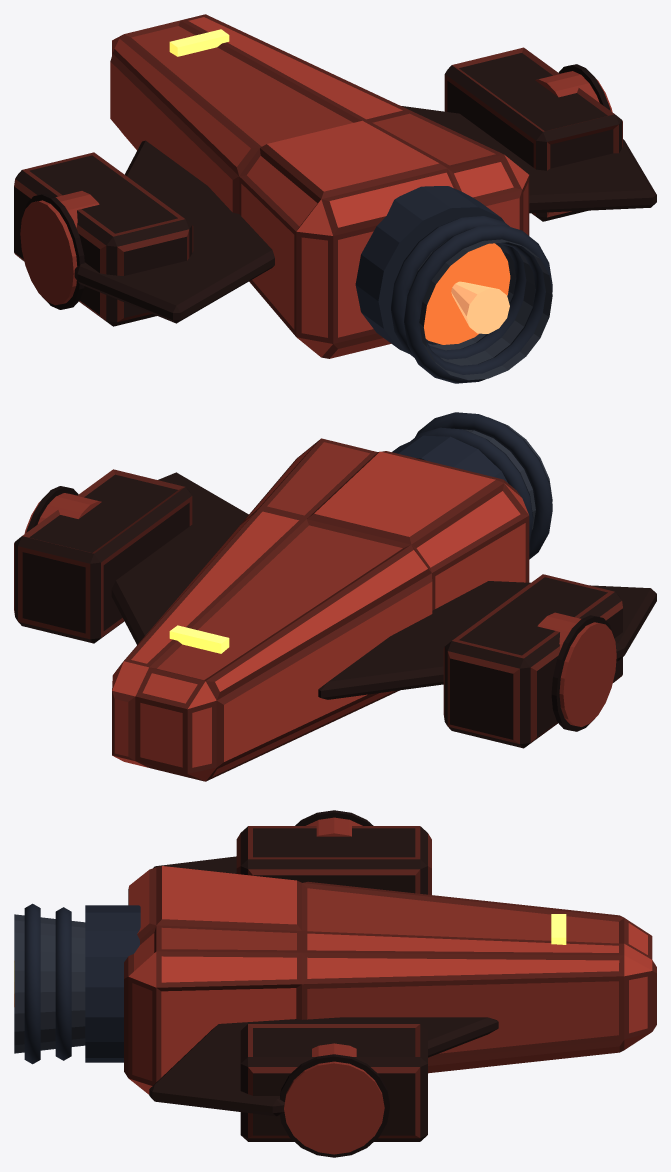
The model's file is swarmer.glb.
3 renders of one model, top to bottom at view 1: azimuth 30°, elevation 25°; view 2: azimuth 150°, elevation 25°; view 3: azimuth 270°, elevation 25°, orthographic. The views are drawn at different scales.
Parts seen in each view (by area): view 1: swarmer_mesh; view 2: swarmer_mesh; view 3: swarmer_mesh.
Part boxes in pixels (left/top/right/bottom): swarmer_mesh: left=14, top=14, right=656, bottom=383; swarmer_mesh: left=14, top=412, right=656, bottom=781; swarmer_mesh: left=14, top=810, right=656, bottom=1157.
Size of the model in its own units: 3.18 by 1 by 3.44.
